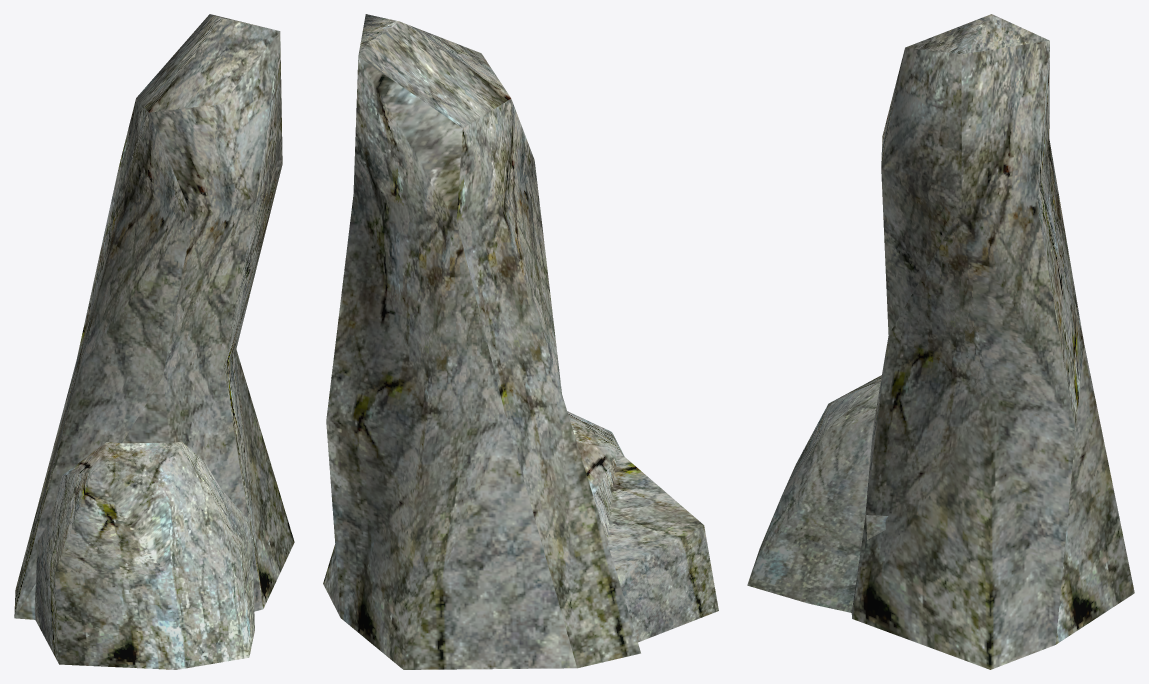
The model's file is general_obj_bigstone03.fbx.
3 renders of one model, left to right at view 1: azimuth 30°, elevation 25°; view 2: azimuth 150°, elevation 25°; view 3: azimuth 270°, elevation 25°, orthographic. The views are drawn at different scales.
Parts seen in each view (by area): view 1: Sphere01; view 2: Sphere01; view 3: Sphere01.
Boxes of the visible parts, bbox=[...] form: Sphere01: bbox=[14, 14, 294, 669]; Sphere01: bbox=[323, 14, 718, 669]; Sphere01: bbox=[747, 14, 1134, 669].
Bounding box in the file's own units: 13.49 × 23.1 × 13.17.
